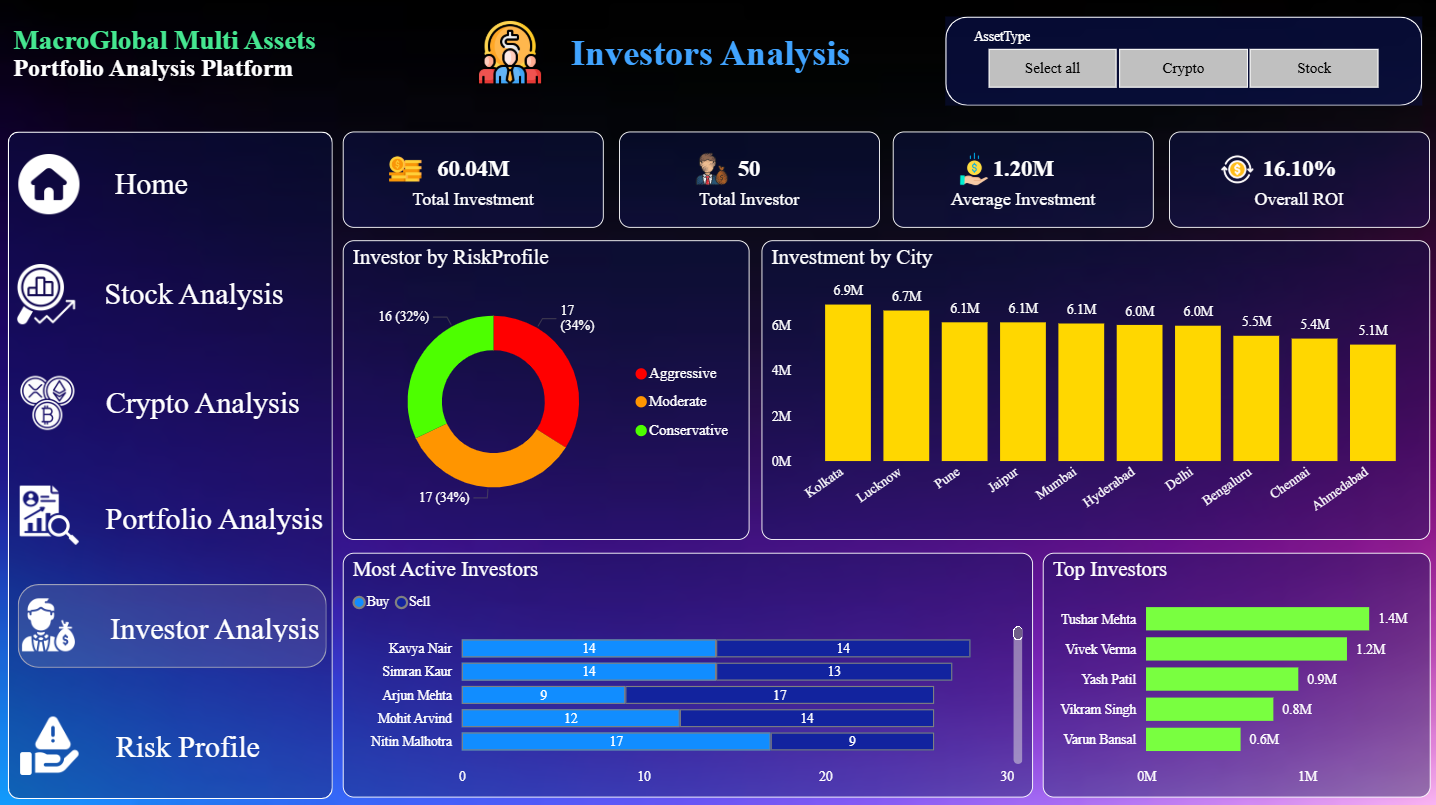

The dashboard page shown, as its layout file describes it:
{"tool":"powerbi","page":{"name":"Investors Analysis","canvas":[1280,720],"ordinal":4},"visuals":[{"type":"image","box":[15.1,138.3,57.5,53.8],"z":0,"group":"g1"},{"type":"shape","box":[16.6,519.9,274.8,74.6],"z":0},{"type":"shape","box":[8.3,117.2,289,593.3],"z":1000},{"type":"actionButton","box":[87.2,145.2,193,40.3],"z":1000,"group":"g1"},{"type":"shape","box":[840.9,15.4,424,79.3],"z":2000},{"type":"textbox","box":[412.1,24.9,349.4,86.5],"z":3000},{"type":"textbox","box":[8.3,0,297.3,138.6],"z":4000},{"type":"image","box":[421.6,15.4,66.3,62.8],"z":5000},{"type":"group","id":"g1","title":"Group 1","box":[15.1,138.3,265.3,53.3],"z":6000},{"type":"image","box":[16.2,429.6,56.4,58],"z":6000,"group":"g4"},{"type":"group","id":"g2","title":"Group 2","box":[11.8,332.5,279.5,53.3],"z":7000},{"type":"image","box":[15.4,531.5,56.8,50.5],"z":7000,"group":"g5"},{"type":"group","id":"g3","title":"Group 2","box":[11.5,235.4,279.5,53.3],"z":8000},{"type":"image","box":[15.1,638.1,58.3,52.1],"z":8000,"group":"g6"},{"type":"actionButton","title":"Stock Analysis","box":[85.2,442.5,210.5,32.9],"z":9000,"group":"g4"},{"type":"clusteredBarChart","title":"Top Investors","fields":{"Y":["Measure.Total Investment"],"Category":["Dim_Investors.InvestorName"]},"box":[927.3,492.7,344.6,217.9],"z":9000},{"type":"barChart","title":"Most Active Investors","fields":{"Category":["Dim_Investors.InvestorName"],"Series":["Dim_Transactions.BuySell"],"Y":["Measure.Transaction Count"]},"box":[305.6,492.7,613.5,217.9],"z":10000},{"type":"actionButton","title":"Stock Analysis","box":[89.6,541.1,207.6,30.7],"z":10000,"group":"g5"},{"type":"clusteredColumnChart","title":"Investment by City","fields":{"Category":["Dim_Investors.City"],"Y":["Measure.Total Investment"]},"box":[677.4,214.4,594.5,266.5],"z":11000},{"type":"actionButton","title":"Stock Analysis","box":[87.7,645.9,193.9,37.7],"z":11000,"group":"g6"},{"type":"slicer","fields":{"Values":["Dim_Assets.AssetType"]},"box":[853.9,15.4,397.9,69.9],"z":12000},{"type":"card","fields":{"Values":["Measure.Total Investment"]},"box":[305.6,117.2,232.1,85.3],"z":13000},{"type":"image","box":[11.5,235.4,61.4,53.3],"z":13000,"group":"g3"},{"type":"card","fields":{"Values":["Measure.Total Investor"]},"box":[550.7,117.2,232.1,85.3],"z":14000},{"type":"card","fields":{"Values":["Measure.Overall ROI"]},"box":[1039.8,117.2,232.1,85.3],"z":15000},{"type":"image","box":[335.2,136.2,50.9,28.4],"z":16000},{"type":"card","fields":{"Values":["Measure.Avg Investment Per Investor"]},"box":[794.7,117.2,232.1,85.3],"z":17000},{"type":"actionButton","title":"Stock Analysis","box":[86.7,242.5,204.3,40.3],"z":17000,"group":"g3"},{"type":"actionButton","title":"Stock Analysis","box":[87,339.6,204.3,40.3],"z":17000,"group":"g2"},{"type":"image","box":[11.8,332.5,61.4,53.3],"z":17500,"group":"g2"},{"type":"group","id":"g4","title":"Group 7","box":[16.2,429.6,279.5,58],"z":18000},{"type":"group","id":"g5","title":"Group 8","box":[15.4,531.5,281.9,62.8],"z":19000},{"type":"group","id":"g6","title":"Group 9","box":[15.1,638.1,266.5,50.9],"z":20000},{"type":"donutChart","title":"Investor by RiskProfile","fields":{"Category":["Dim_Investors.RiskProfile"],"Y":["Measure.Total Investor"]},"box":[305.6,214.4,361.2,266.5],"z":21000},{"type":"image","box":[602.8,136.2,60.4,28.4],"z":22000},{"type":"image","box":[840.9,136.2,50.9,28.4],"z":23000},{"type":"image","box":[1075.4,136.2,50.9,29.6],"z":24000}]}

Visuals, with their boxes in screenshot pixels (x1, y1, x2, y2), scaled from the page's 1280x720 canvas onto the 1436x805 screenshot:
image: 17/155/81/215
shape: 19/581/327/665
shape: 9/131/334/794
actionButton: 98/162/314/207
shape: 943/17/1419/106
textbox: 462/28/854/125
textbox: 9/0/343/155
image: 473/17/547/87
"Group 1" group: 17/155/315/214
image: 18/480/81/545
"Group 2" group: 13/372/327/431
image: 17/594/81/651
"Group 2" group: 13/263/326/323
image: 17/713/82/772
"Stock Analysis" actionButton: 96/495/332/532
"Top Investors" clusteredBarChart: 1040/551/1427/794
"Most Active Investors" barChart: 343/551/1031/794
"Stock Analysis" actionButton: 101/605/333/639
"Investment by City" clusteredColumnChart: 760/240/1427/538
"Stock Analysis" actionButton: 98/722/316/764
slicer - Dim_Assets.AssetType: 958/17/1404/95
card - Measure.Total Investment: 343/131/603/226
image: 13/263/82/323
card - Measure.Total Investor: 618/131/878/226
card - Measure.Overall ROI: 1167/131/1427/226
image: 376/152/433/184
card - Measure.Avg Investment Per Investor: 892/131/1152/226
"Stock Analysis" actionButton: 97/271/326/316
"Stock Analysis" actionButton: 98/380/327/425
image: 13/372/82/431
"Group 7" group: 18/480/332/545
"Group 8" group: 17/594/334/664
"Group 9" group: 17/713/316/770
"Investor by RiskProfile" donutChart: 343/240/748/538
image: 676/152/744/184
image: 943/152/1000/184
image: 1206/152/1264/185
